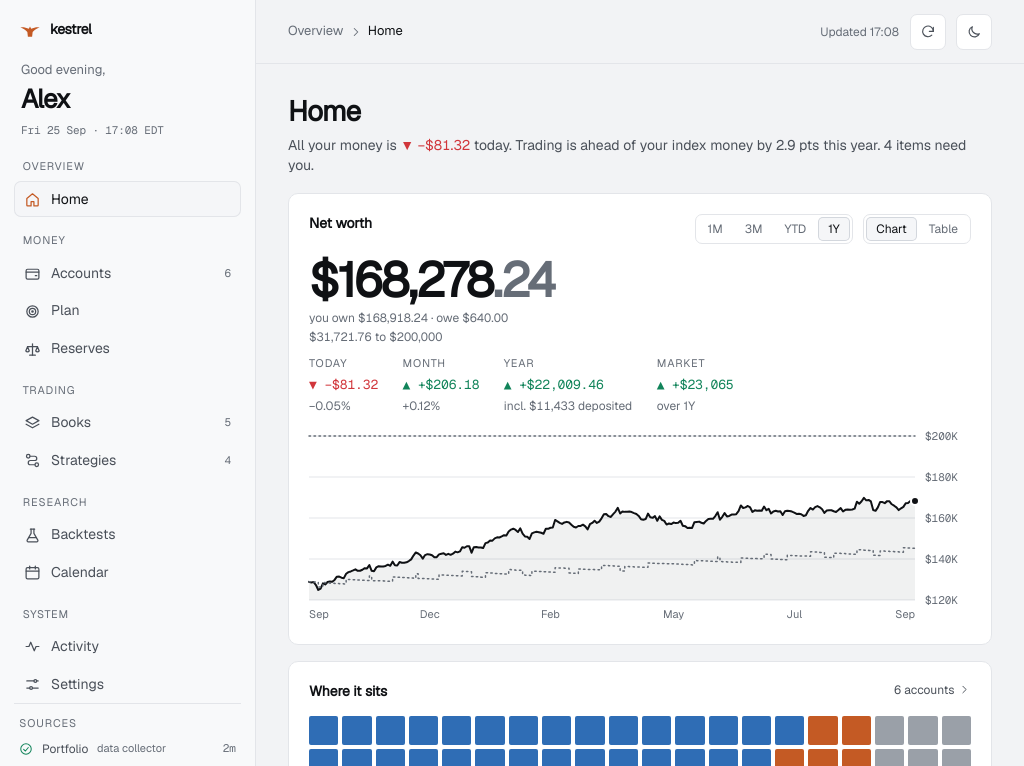
Scenario: shell › marks the current page and navigates
Click the link "Strategies 4": (84, 460) top-left (24, 451), bottom-right (231, 469)
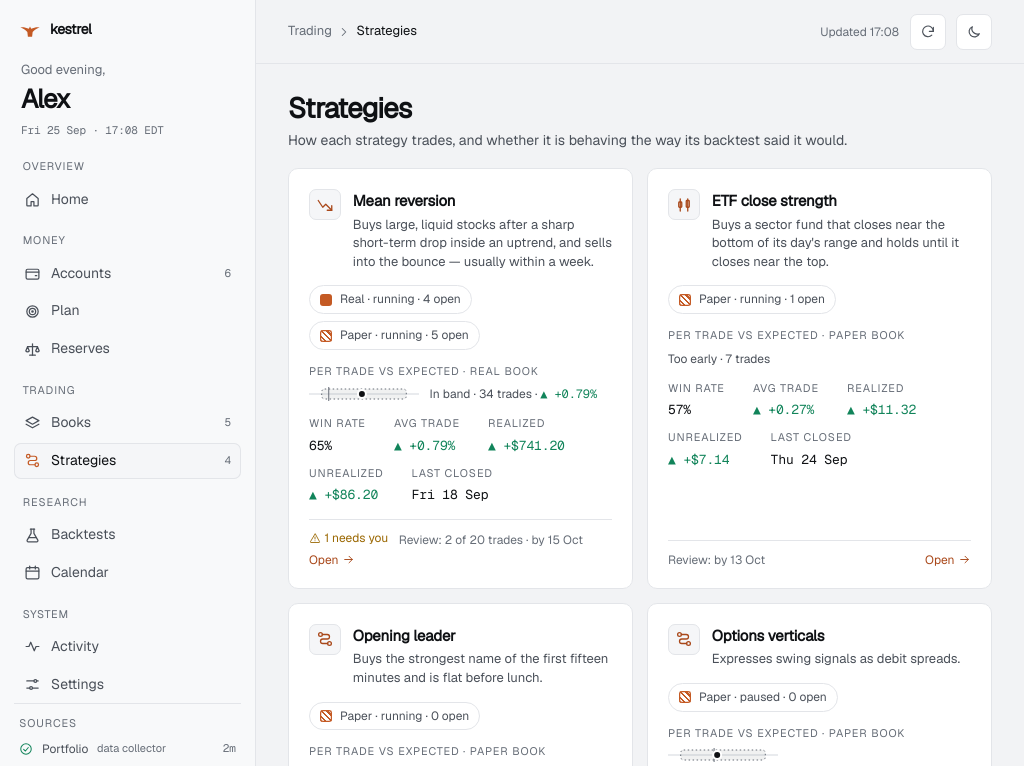
Now the heading "Strategies" is shown, box top-left (288, 90), bottom-right (412, 126)
